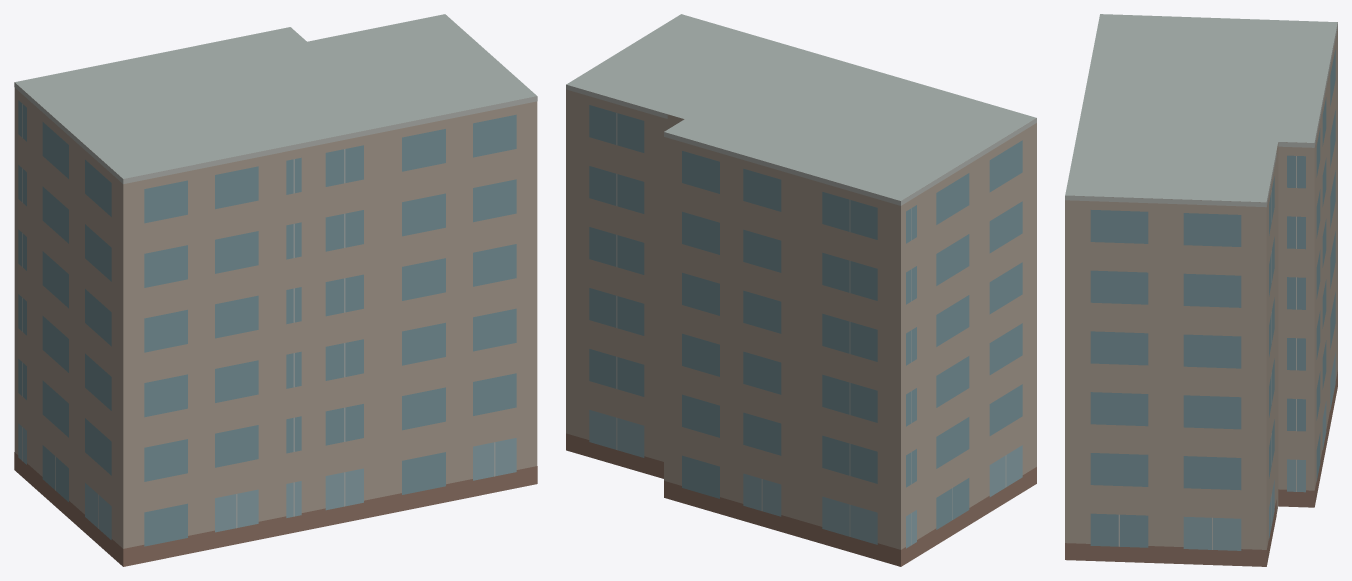
File: survey-upis-32565919.glb
3 renders of one model, left to right at view 1: azimuth 30°, elevation 25°; view 2: azimuth 150°, elevation 25°; view 3: azimuth 270°, elevation 25°, orthographic. The views are drawn at different scales.
Parts seen in each view (by area): view 1: survey-upis-32565919.tmp; view 2: survey-upis-32565919.tmp; view 3: survey-upis-32565919.tmp.
Part boxes in pixels (left/top/right/bottom): survey-upis-32565919.tmp: left=14, top=14, right=537, bottom=566; survey-upis-32565919.tmp: left=566, top=14, right=1036, bottom=566; survey-upis-32565919.tmp: left=1065, top=14, right=1337, bottom=566.
Bounding box in the file's own units: 20.28 × 18.3 × 12.42.
